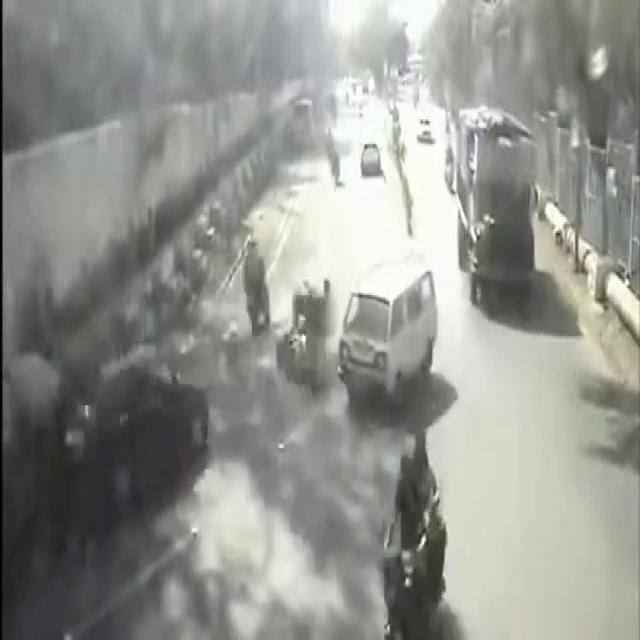accident: (276, 258, 336, 414)
